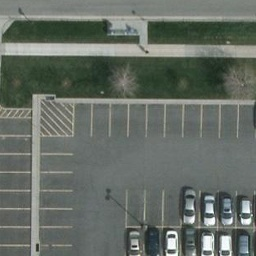car: (145, 222, 160, 256), (203, 193, 217, 226), (220, 193, 234, 226), (238, 195, 252, 228), (127, 222, 140, 256), (184, 189, 197, 222), (165, 228, 178, 256), (185, 228, 198, 256), (201, 228, 214, 256), (218, 234, 234, 256), (237, 234, 253, 256)
